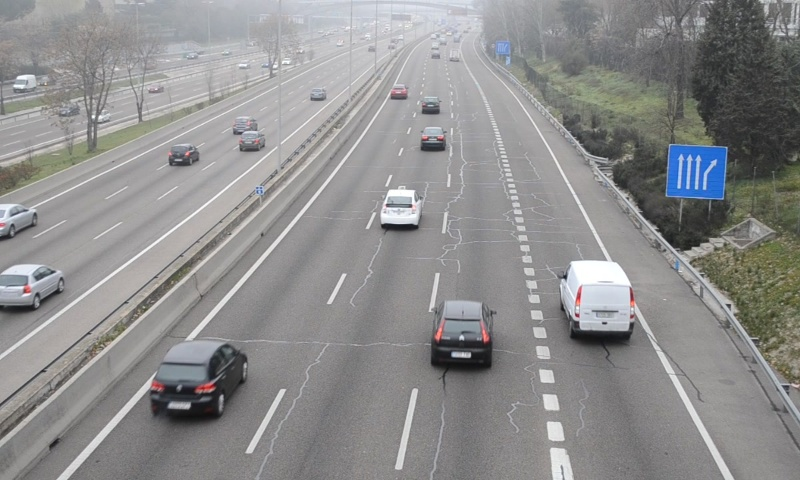car: (148, 341, 247, 413), (431, 300, 493, 365), (380, 188, 421, 224), (420, 125, 446, 151), (420, 95, 441, 116), (388, 83, 408, 99)
van: (562, 260, 634, 336)
